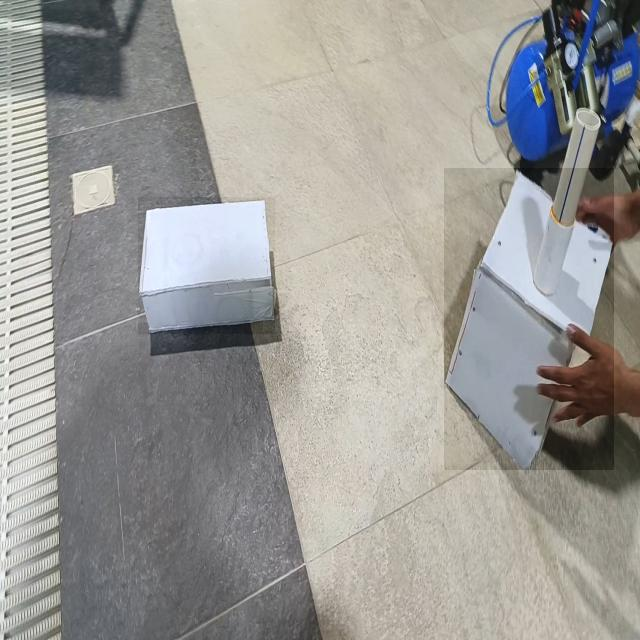Cube: (444, 168, 614, 470)
Cuboid: (138, 197, 275, 334)
